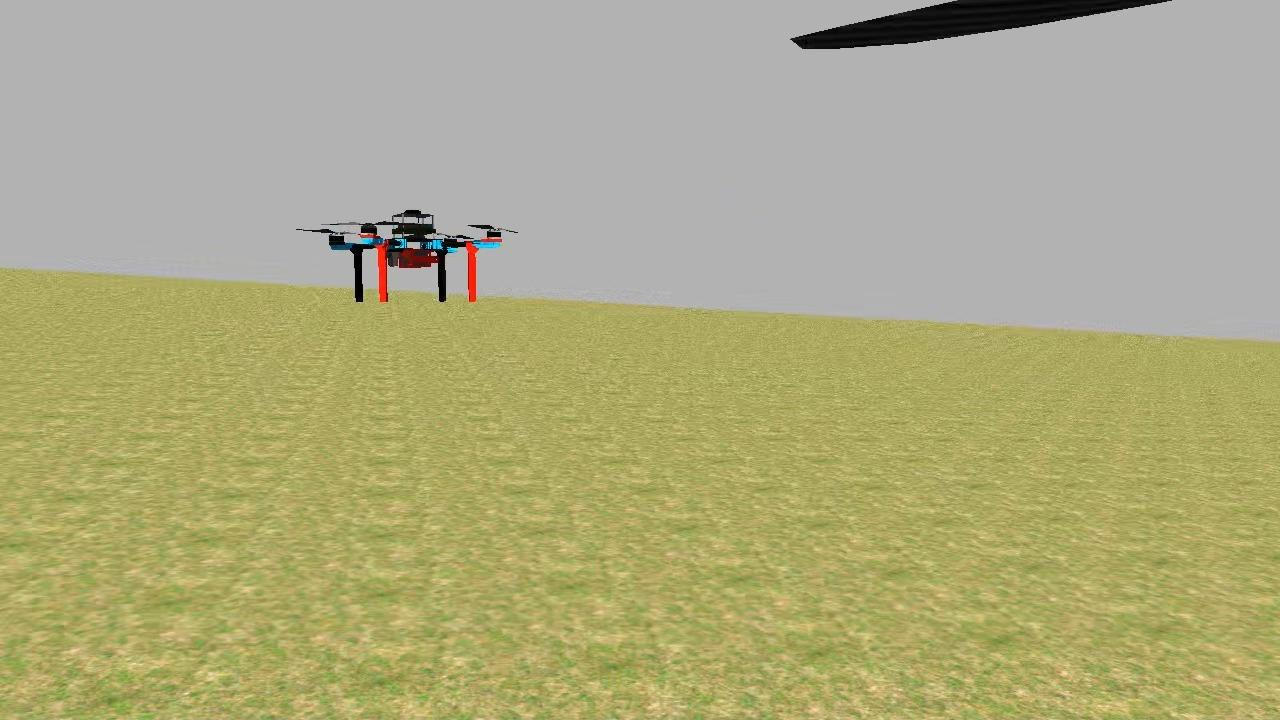UAV: (320, 200, 506, 313)
